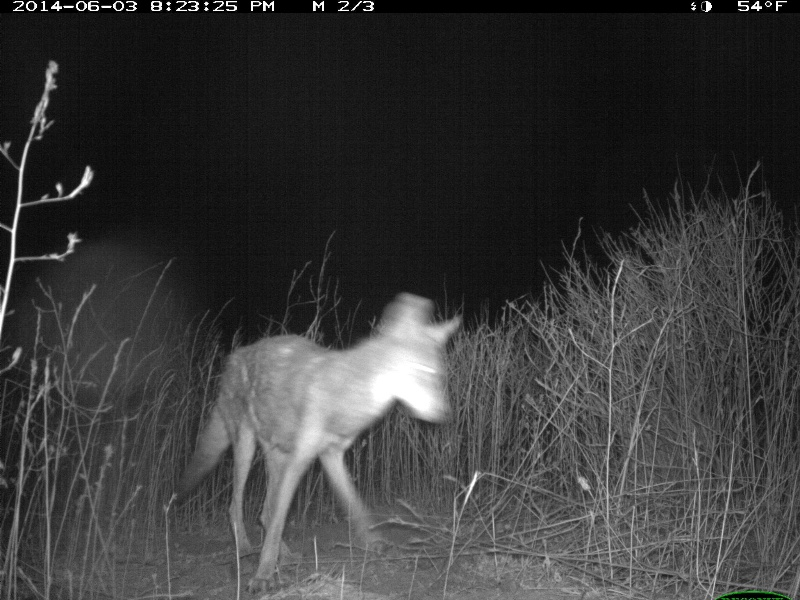coyote: (175, 292, 465, 588)
